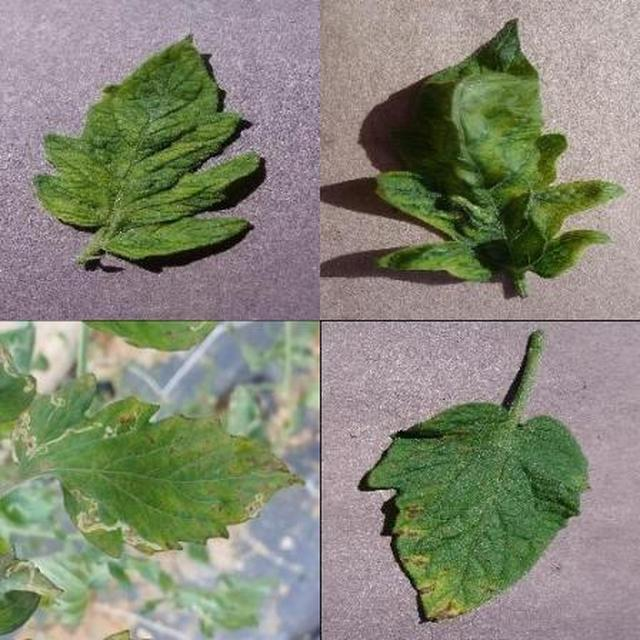Mosaic Virus Leaf: (210, 212, 640, 640)
